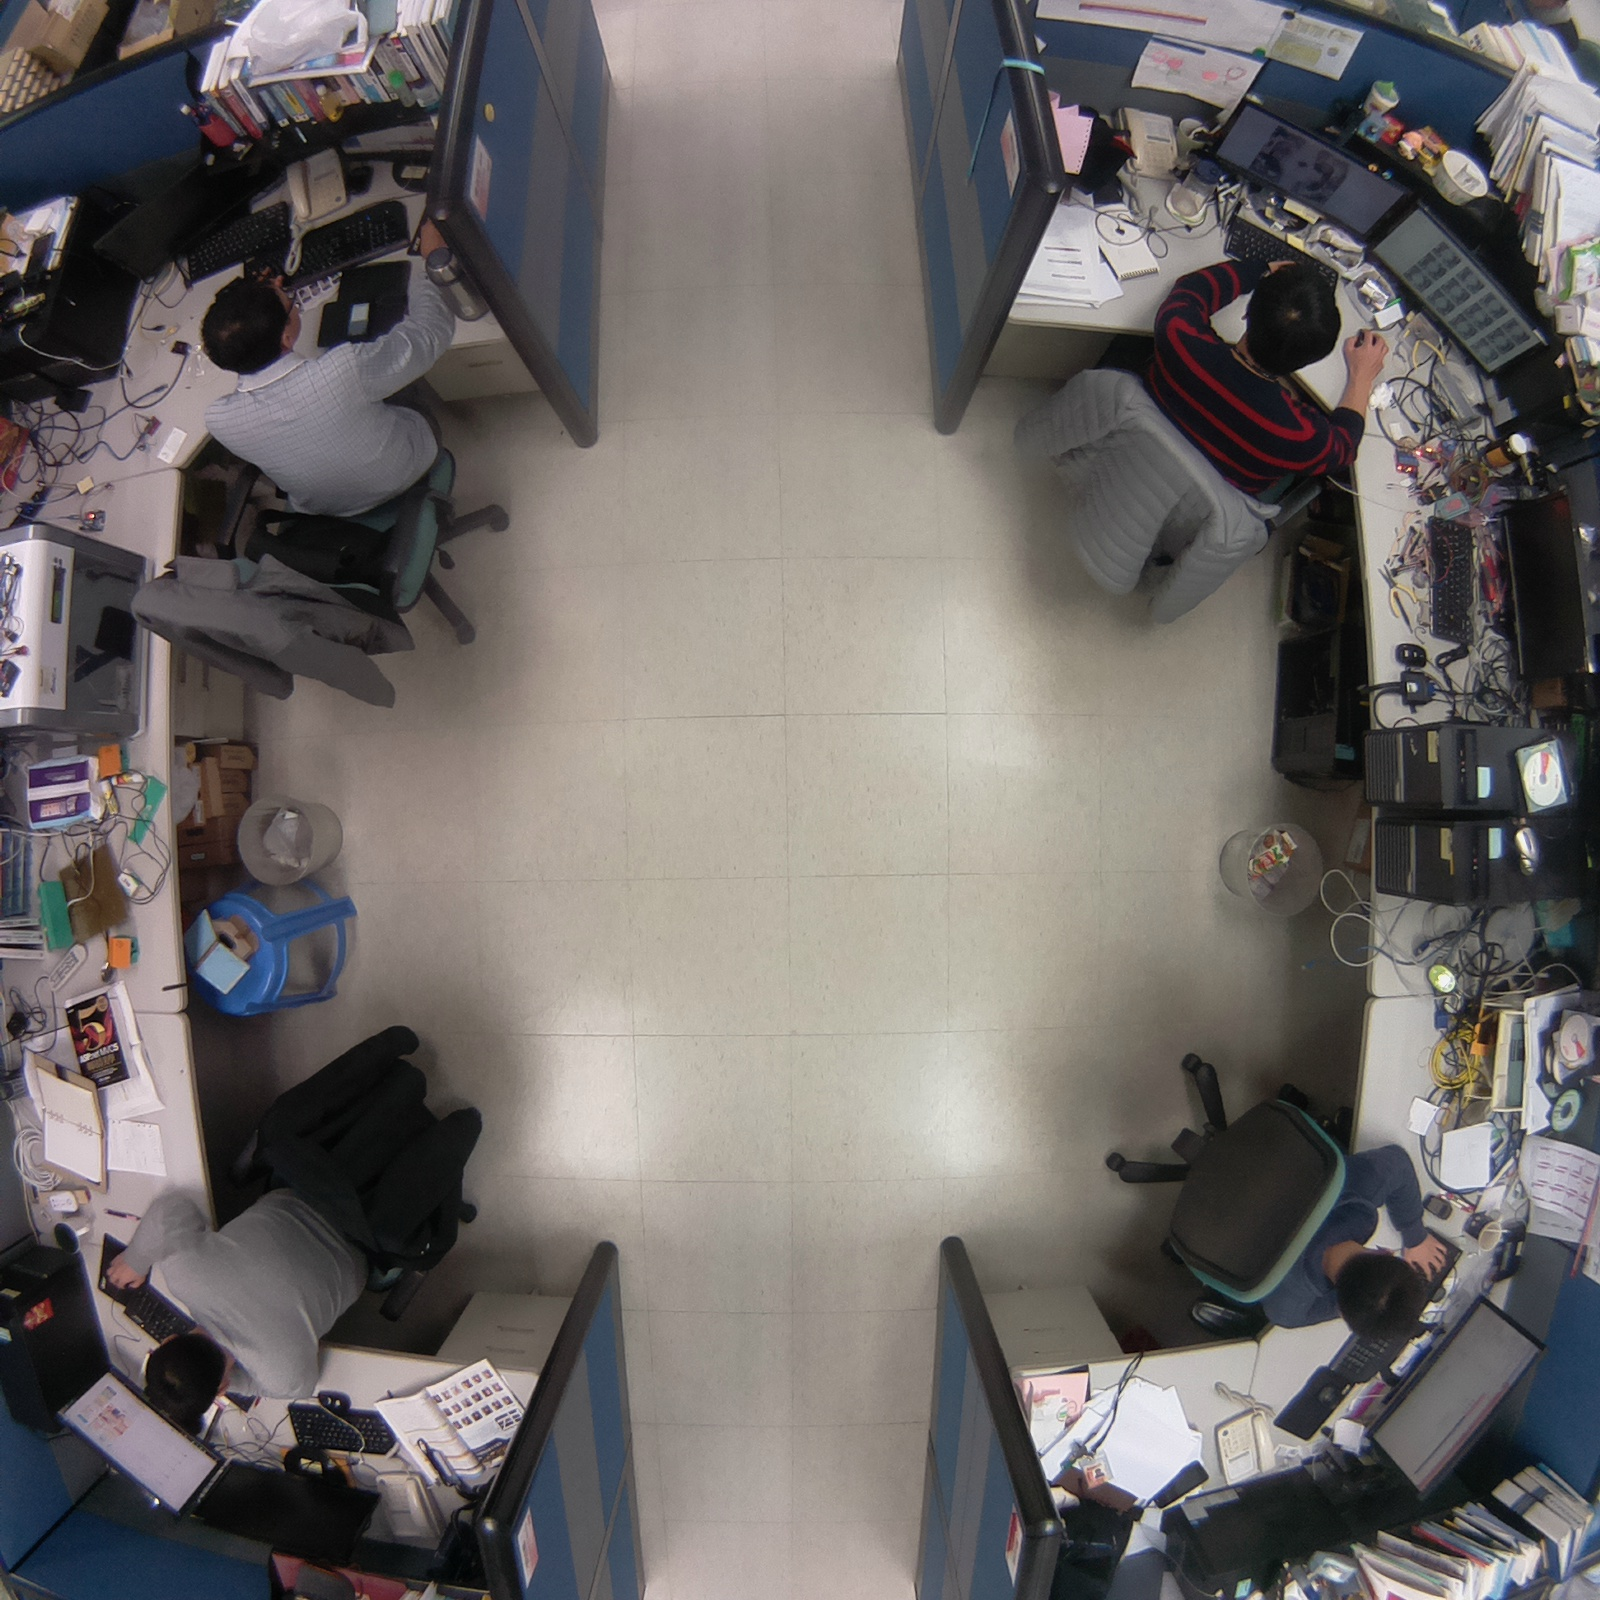head: (1238, 257, 1349, 376), (195, 272, 304, 372), (138, 1323, 236, 1429), (1332, 1244, 1432, 1346)
sitting: (112, 199, 517, 734), (94, 983, 506, 1427), (976, 247, 1396, 647), (1088, 1032, 1460, 1350)
